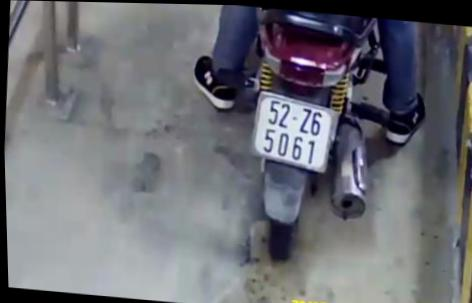LP: (245, 89, 338, 172)
